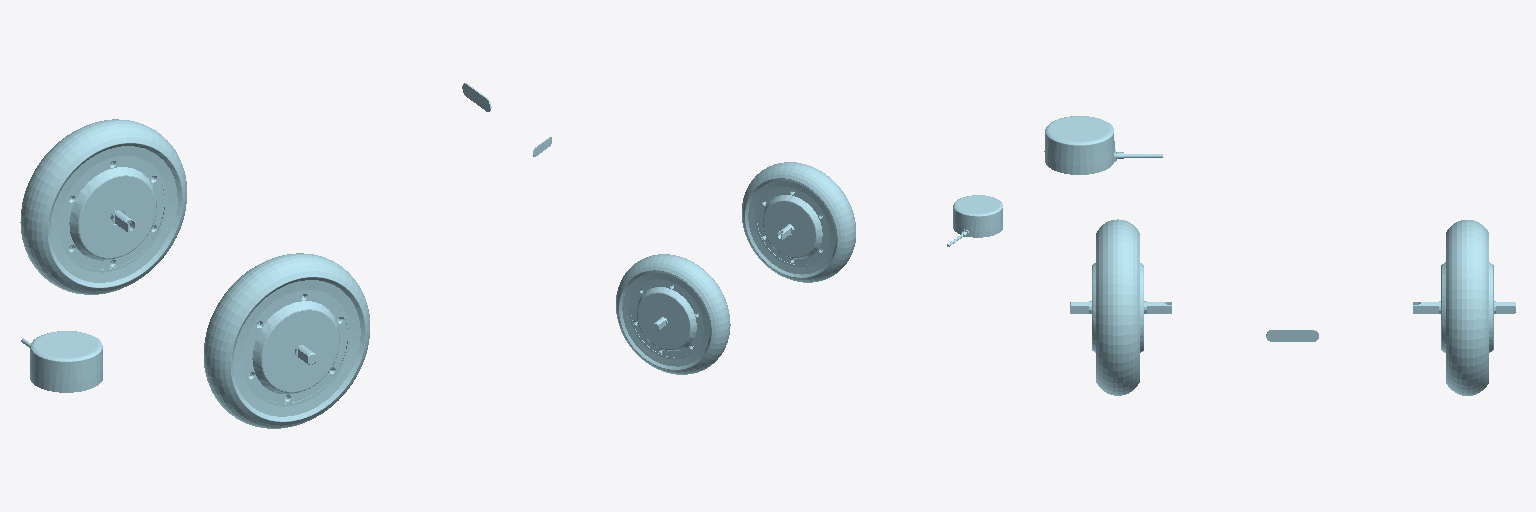
The robot description file, URDF, robot "Beary-x_modle":
<?xml version="1.0" encoding="utf-8"?>

<robot
  name="Beary-x_modle">

<!-- ******************** base ********************-->
  <link name="base_footprint"/>

  <link
    name="base_link">
    <inertial>
      <origin
        xyz="-0.055215367726052 0.000593325287443985 0.175820748967485"
        rpy="0 0 0" />
      <mass
        value="0.00543124747866457" />
      <inertia
        ixx="0.000159721744138676"
        ixy="1.19956200631725E-06"
        ixz="2.03850511927702E-05"
        iyy="0.000253171802085353"
        iyz="6.41694975734622E-08"
        izz="0.00036548556072617" />
    </inertial>
    <visual>
      <origin
        xyz="0 0 0"
        rpy="0 0 0" />
      <geometry>
        <mesh
          filename="package://bearyx_model/meshes/dae/base_link.dae" />
      </geometry>
      <material
        name="">
        <color
          rgba="0.737254901960784 0.901960784313726 0.952941176470588 1" />
      </material>
    </visual>
    <collision>
      <origin
        xyz="0 0 0"
        rpy="0 0 0" />
      <geometry>
        <mesh
          filename="package://bearyx_model/meshes/stl/base_link.STL" />
      </geometry>
    </collision>
  </link>

  <joint name="base_joint" type="fixed">
    <parent link="base_footprint"/>
    <child link="base_link"/>
    <origin xyz="0.0 0.0 0.0" rpy="0 0 0"/>
  </joint>
  
  <link name="base_scan"/>
    
  <joint name="scan_joint" type="fixed">
    <parent link="base_link"/>
    <child link="base_scan"/>
    <origin xyz="0.0 0.0 0.0" rpy="0 0 0"/>
  </joint>
<!-- ******************** end base ********************-->



<!-- ******************** wheel_left ********************-->
  <link
    name="wheel_left_link">
    <inertial>
      <origin
        xyz="-1.12113097006836E-09 7.22144124970514E-07 0.000161702225044691"
        rpy="0 0 0" />
      <mass
        value="0.00139329690452043" />
      <inertia
        ixx="3.36624803921687E-06"
        ixy="7.39300875701478E-15"
        ixz="-1.15025055548288E-15"
        iyy="3.36621257139744E-06"
        iyz="5.81486794290515E-11"
        izz="6.17473155498386E-06" />
    </inertial>
    <visual>
      <origin
        xyz="0 0 0"
        rpy="0 0 0" />
      <geometry>
        <mesh
          filename="package://bearyx_model/meshes/dae/wheel_left_link.dae" />
      </geometry>
      <material
        name="">
        <color
          rgba="0.737254901960784 0.901960784313726 0.952941176470588 1" />
      </material>
    </visual>
    <collision>
      <origin
        xyz="0 0 0"
        rpy="0 0 0" />
      <geometry>
        <mesh
          filename="package://bearyx_model/meshes/stl/wheel_left_link.STL" />
      </geometry>
    </collision>
  </link>

  <joint
    name="wheel_left_joint"
    type="fixed">
    <origin
      xyz="0 0.19775 0.066749"
      rpy="-1.5708 0 0" />
    <parent
      link="base_link" />
    <child
      link="wheel_left_link" />
    <axis
      xyz="0 0 1" />
  </joint>
<!-- ******************** end wheel_left ********************-->

<!-- ******************** wheel_right ********************-->
  <link
    name="wheel_right_link">
    <inertial>
      <origin
        xyz="1.12113096972269E-09 7.22144124984392E-07 -0.000161702225044719"
        rpy="0 0 0" />
      <mass
        value="0.00139329690452043" />
      <inertia
        ixx="3.36624803921687E-06"
        ixy="-7.39300875781191E-15"
        ixz="-1.15023077039508E-15"
        iyy="3.36621257139743E-06"
        iyz="-5.81486794292593E-11"
        izz="6.17473155498386E-06" />
    </inertial>
    <visual>
      <origin
        xyz="0 0 0"
        rpy="0 0 0" />
      <geometry>
        <mesh
          filename="package://bearyx_model/meshes/dae/wheel_right_link.dae" />
      </geometry>
      <material
        name="">
        <color
          rgba="0.737254901960784 0.901960784313726 0.952941176470588 1" />
      </material>
    </visual>
    <collision>
      <origin
        xyz="0 0 0"
        rpy="0 0 0" />
      <geometry>
        <mesh
          filename="package://bearyx_model/meshes/stl/wheel_right_link.STL" />
      </geometry>
    </collision>
  </link>

  <joint
    name="wheel_right_joint"
    type="fixed">
    <origin
      xyz="0 -0.19775 0.066749"
      rpy="-1.5708 0 0" />
    <parent
      link="base_link" />
    <child
      link="wheel_right_link" />
    <axis
      xyz="0 0 1" />
  </joint>
<!-- ******************** end wheel_right ********************-->

<!-- ******************** imu ********************-->
  <joint name="imu_joint" type="fixed">
    <parent link="base_link"/>
    <child link="imu_link"/>
    <origin xyz="-0.20 0 0.05" rpy="0 0 -1.5708"/>
  </joint>

  <link name="imu_link">
    
  </link>
<!-- ******************** end imu ********************-->

<!-- ******************** scan_1 ********************-->
  <link
    name="base_scan_1">
    <inertial>
      <origin
        xyz="-0.00177571998499404 -0.00176965666304121 0.00608267427809162"
        rpy="0 0 0" />
      <mass
        value="3.74307663679103E-05" />
      <inertia
        ixx="3.08343933333962E-08"
        ixy="-2.78438473410044E-09"
        ixz="-7.56893245046912E-10"
        iyy="3.08304806407341E-08"
        iyz="-7.57864800840152E-10"
        izz="4.50852856571892E-08" />
    </inertial>
    <visual>
      <origin
        xyz="0 0 0"
        rpy="0 0 0" />
      <geometry>
        <mesh
          filename="package://bearyx_model/meshes/dae/scan_1.dae" />
      </geometry>
      <material
        name="">
        <color
          rgba="0.737254901960784 0.901960784313726 0.952941176470588 1" />
      </material>
    </visual>
    <collision>
      <origin
        xyz="0 0 0"
        rpy="0 0 0" />
      <geometry>
        <mesh
          filename="package://bearyx_model/meshes/stl/scan_1.STL" />
      </geometry>
    </collision>
  </link>

  <joint
    name="lidar_joint_1"
    type="fixed">
    <origin
      xyz="0.3 0.235 0.12203"
      rpy="0 0 0.7853981634" />
    <parent
      link="base_scan" />
    <child
      link="base_scan_1" />
    <axis
      xyz="0 0 0" />
  </joint>
<!-- ******************** end scan_1 ********************-->

<!-- ******************** scan_2 ********************-->
  <link
    name="base_scan_2">
    <inertial>
      <origin
        xyz="0.00177571998501846 0.00176965666317083 0.00608267427810945"
        rpy="0 0 0" />
      <mass
        value="3.74307663679113E-05" />
      <inertia
        ixx="3.08343933332249E-08"
        ixy="-2.7843847341003E-09"
        ixz="7.56893245050378E-10"
        iyy="3.08304806405632E-08"
        iyz="7.57864800841837E-10"
        izz="4.508528565719E-08" />
    </inertial>
    <visual>
      <origin
        xyz="0.015 0.015 0"
        rpy="0 0 3.14" />
      <geometry>
        <mesh
          filename="package://bearyx_model/meshes/dae/scan_2.dae" />
      </geometry>
      <material
        name="">
        <color
          rgba="0.737254901960784 0.901960784313726 0.952941176470588 1" />
      </material>
    </visual>
    <collision>
      <origin
        xyz="0 0 0"
        rpy="0 0 0" />
      <geometry>
        <mesh
          filename="package://bearyx_model/meshes/stl/scan_2.STL" />
      </geometry>
    </collision>
  </link>

  <joint
    name="lidar_joint_2"
    type="fixed">
    <origin
      xyz="-0.3 -0.22 0.12203"
      rpy="0 0 3.926990817" /> <!--0 0 3.926990817-->
    <parent
      link="base_scan" />
    <child
      link="base_scan_2" />
    <axis
      xyz="0 0 0" />
  </joint>
<!-- ******************** end scan_2 ********************-->

<!-- ******************** camera3d ********************-->
  <link
    name="camera_link">
    <inertial>
      <origin
        xyz="-0.000849999999999795 -1.26422554673857E-14 -1.93178806284777E-14"
        rpy="0 0 0" />
      <mass
        value="1.4479147974995E-06" />
      <inertia
        ixx="4.187216574138E-10"
        ixy="1.16576378318712E-25"
        ixz="-5.75905704698494E-26"
        iyy="2.60889142369011E-11"
        iyz="1.89980911267052E-26"
        izz="3.93330155471028E-10" />
    </inertial>
    <visual>
      <origin
        xyz="0 0 0"
        rpy="0 0 0" />
      <geometry>
        <mesh
          filename="package://bearyx_model/meshes/dae/camera3d_link.dae" />
      </geometry>
      <material
        name="">
        <color
          rgba="0.737254901960784 0.901960784313726 0.952941176470588 1" />
      </material>
    </visual>
    <collision>
      <origin
        xyz="0 0 0"
        rpy="0 0 0" />
      <geometry>
        <mesh
          filename="package://bearyx_model/meshes/stl/camera3d_link.STL" />
      </geometry>
    </collision>
  </link>

  <joint
    name="camera_joint"
    type="fixed">
    <origin
      xyz="0.352 0 0.1953"
      rpy="0 0 0" />
    <parent
      link="base_link" />
    <child
      link="camera_link" />
    <axis
      xyz="0 0 0" />
  </joint>
<!-- ******************** end camera3d ********************-->

<!-- ******************** infrared ********************-->
  <joint name="infrared_joint" type="fixed">
    <parent link="base_link"/>
    <child link="infrared_link"/>
    <origin xyz="-0.352 0 0.110" rpy="0 0 0"/>
  </joint>

  <link name="infrared_link">
    
  </link>
<!-- ******************** end infrared ********************-->

<!-- ******************** infrared ********************-->
  <joint name="charge_joint" type="fixed">
    <parent link="base_link"/>
    <child link="charge_link"/>
    <origin xyz="-0.352 0 0.055" rpy="0 0 0"/>
  </joint>

  <link name="charge_link">
    
  </link>
<!-- ******************** end infrared ********************-->

<!-- ******************** ultrasonic_1 ********************-->
  <joint name="ultrasonic_joint_1" type="fixed">
    <parent link="base_link"/>
    <child link="ultrasonic_link_1"/>
    <origin xyz="0.34386 0.26526 0.06" rpy="-1.5707963268 0 0.7853981634"/>
  </joint>

  <link name="ultrasonic_link_1">
    
  </link>
<!-- ******************** end ultrasonic_1 ********************-->

<!-- ******************** ultrasonic_2 ********************-->
  <joint name="ultrasonic_joint_2" type="fixed">
    <parent link="base_link"/>
    <child link="ultrasonic_link_2"/>
    <origin xyz="0.355 0.1730 0.06" rpy="0 0 0"/>
  </joint>

  <link name="ultrasonic_link_2">
    
  </link>
<!-- ******************** end ultrasonic_3 ********************-->
<!-- ******************** ultrasonic_3 ********************-->
  <joint name="ultrasonic_joint_3" type="fixed">
    <parent link="base_link"/>
    <child link="ultrasonic_link_3"/>
    <origin xyz="0.355 0.058 0.06" rpy="0 0 0"/>
  </joint>

  <link name="ultrasonic_link_3">
    
  </link>
<!-- ******************** end ultrasonic_3 ********************-->
<!-- ******************** ultrasonic_4 ********************-->
  <joint name="ultrasonic_joint_4" type="fixed">
    <parent link="base_link"/>
    <child link="ultrasonic_link_4"/>
    <origin xyz="0.355 -0.058 0.06" rpy="0 0 0"/>
  </joint>

  <link name="ultrasonic_link_4">
    
  </link>
<!-- ******************** end ultrasonic_4 ********************-->
<!-- ******************** ultrasonic_5 ********************-->
  <joint name="ultrasonic_joint_5" type="fixed">
    <parent link="base_link"/>
    <child link="ultrasonic_link_5"/>
    <origin xyz="0.355 -0.172 0.06" rpy="0 0 0"/>
  </joint>

  <link name="ultrasonic_link_5">
    
  </link>
<!-- ******************** end ultrasonic_5 ********************-->

<!-- ******************** ultrasonic_6 ********************-->
  <joint name="ultrasonic_joint_6" type="fixed">
    <parent link="base_link"/>
    <child link="ultrasonic_link_6"/>
    <origin xyz="0.34386 -0.26526 0.06" rpy="-1.5707963268 0 -0.7853981634"/>
  </joint>

  <link name="ultrasonic_link_6">
    
  </link>
<!-- ******************** end ultrasonic_6 ********************-->

</robot>

--- What the picture shows (computed from the rendered views, not written in the file) ---
3 views of the same robot in one strip: view 1: azimuth 30°, elevation 25°; view 2: azimuth 150°, elevation 25°; view 3: azimuth 270°, elevation 25° (orthographic).
Model Beary-x_modle with 17 links and 16 joints (16 fixed), rooted at base_footprint, posed all joints at 0.
Links seen in each view (by area): view 1: wheel_right_link, wheel_left_link, base_scan_2; view 2: wheel_left_link, wheel_right_link, base_scan_2; view 3: wheel_left_link, wheel_right_link, base_scan_2, camera_link.
Boxes of the visible links, x1,y1,x2,y2 form: wheel_right_link: (204,253,369,428); wheel_left_link: (20,119,186,294); base_scan_2: (21,331,102,392); wheel_left_link: (616,254,730,374); wheel_right_link: (742,162,855,282); base_scan_2: (947,195,1002,246); wheel_left_link: (1413,220,1515,395); wheel_right_link: (1070,219,1171,395); base_scan_2: (1044,116,1162,174); camera_link: (1266,330,1318,341).
Bounding box of the posed robot: 0.6918 × 0.5332 × 0.236 m (x, y, z).
4 mesh visuals loaded from 6 distinct referenced files (4 Collada DAE); not drawn: 1 (reference not matched to a file when rendering), 1 (file found but could not be loaded).
